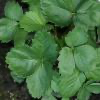Strawberry leaf: (6, 44, 42, 77), (24, 60, 55, 98), (29, 29, 58, 63), (73, 45, 98, 72), (18, 9, 46, 32), (57, 46, 76, 79), (65, 25, 89, 49), (0, 16, 21, 43), (3, 0, 26, 22)
